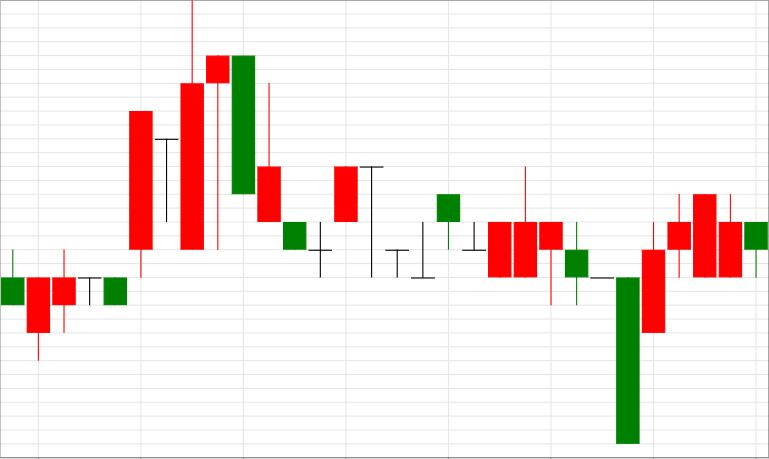hanging_man_fall: (129, 1, 229, 277)
morning_star_rise: (231, 55, 358, 278)
